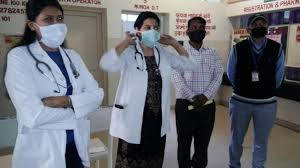mask: (28, 2, 67, 51), (136, 12, 160, 49), (247, 13, 268, 39), (188, 17, 206, 45)
